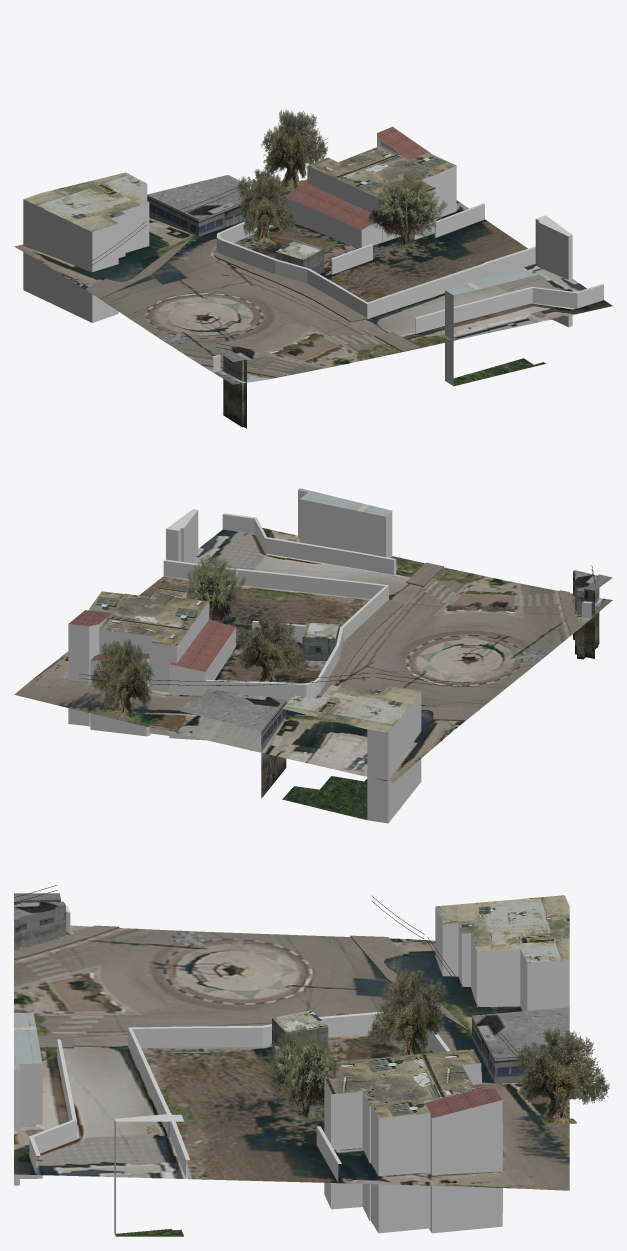
Rendered from smi67.gltf.
3 renders of one model, top to bottom at view 1: azimuth 30°, elevation 25°; view 2: azimuth 150°, elevation 25°; view 3: azimuth 270°, elevation 25°, orthographic. The views are drawn at different scales.
Visible parts, largest first — view 1: Mesh_0_Mat_none_Tex_79, _tile4_ 46, Mesh_2_Mat_0_Tex_17, Mesh_0_Mat_0_Tex_9, Mesh_8_Mat_0_Tex_29, Mesh_11_Mat_0_Tex_34, Mesh_1_Mat_0_Tex_10 1, Mesh_1_Mat_0_Tex_75 9, Mesh_3_Mat_0_Tex_18 3, Mesh_15_Mat_0_Tex_44, Mesh_7_Mat_0_Tex_25 2, Mesh_1_Mat_0_Tex_14 21 (+9 smaller); view 2: Mesh_0_Mat_none_Tex_79, _tile4_ 46, Mesh_0_Mat_0_Tex_9, Mesh_1_Mat_0_Tex_14 21, Mesh_2_Mat_0_Tex_17, Mesh_11_Mat_0_Tex_34, Mesh_4_Mat_0_Tex_21 1, Mesh_8_Mat_0_Tex_29, Mesh_1_Mat_0_Tex_75 9, Mesh_15_Mat_0_Tex_44, Mesh_3_Mat_0_Tex_18 3, Mesh_1_Mat_0_Tex_10 1 (+14 smaller); view 3: Mesh_0_Mat_none_Tex_79, Mesh_3_Mat_0_Tex_18 3, Mesh_0_Mat_0_Tex_9, Mesh_1_Mat_0_Tex_14 21, Mesh_2_Mat_0_Tex_17, _tile4_ 46, Mesh_11_Mat_0_Tex_34, Mesh_8_Mat_0_Tex_29, Mesh_1_Mat_0_Tex_10 1, Mesh_15_Mat_0_Tex_44, Mesh_1_Mat_0_Tex_75 9, Mesh_4_Mat_0_Tex_21 1 (+7 smaller).
Part boxes in pixels (x1=…): Mesh_0_Mat_none_Tex_79: x1=14, y1=180, x2=612, y2=384; _tile4_ 46: x1=213, y1=204, x2=603, y2=372; Mesh_2_Mat_0_Tex_17: x1=23, y1=183, x2=149, y2=322; Mesh_0_Mat_0_Tex_9: x1=236, y1=109, x2=327, y2=245; Mesh_8_Mat_0_Tex_29: x1=24, y1=172, x2=148, y2=231; Mesh_11_Mat_0_Tex_34: x1=307, y1=145, x2=456, y2=198; Mesh_1_Mat_0_Tex_10 1: x1=367, y1=172, x2=447, y2=248; Mesh_1_Mat_0_Tex_75 9: x1=86, y1=238, x2=419, y2=376; Mesh_3_Mat_0_Tex_18 3: x1=307, y1=166, x2=456, y2=242; Mesh_15_Mat_0_Tex_44: x1=147, y1=175, x2=271, y2=360; Mesh_7_Mat_0_Tex_25 2: x1=285, y1=126, x2=430, y2=230; Mesh_1_Mat_0_Tex_14 21: x1=285, y1=133, x2=431, y2=248; Mesh_0_Mat_none_Tex_79: x1=14, y1=528, x2=612, y2=782; _tile4_ 46: x1=163, y1=514, x2=591, y2=699; Mesh_0_Mat_0_Tex_9: x1=90, y1=613, x2=307, y2=720; Mesh_1_Mat_0_Tex_14 21: x1=68, y1=616, x2=235, y2=740; Mesh_2_Mat_0_Tex_17: x1=367, y1=691, x2=421, y2=823; Mesh_11_Mat_0_Tex_34: x1=90, y1=587, x2=208, y2=645; Mesh_4_Mat_0_Tex_21 1: x1=298, y1=490, x2=392, y2=557; Mesh_8_Mat_0_Tex_29: x1=282, y1=685, x2=420, y2=732; Mesh_1_Mat_0_Tex_75 9: x1=297, y1=562, x2=580, y2=719; Mesh_15_Mat_0_Tex_44: x1=180, y1=570, x2=597, y2=730; Mesh_3_Mat_0_Tex_18 3: x1=89, y1=592, x2=209, y2=735; Mesh_1_Mat_0_Tex_10 1: x1=186, y1=554, x2=246, y2=622; Mesh_0_Mat_none_Tex_79: x1=14, y1=925, x2=569, y2=1190; Mesh_3_Mat_0_Tex_18 3: x1=324, y1=1062, x2=481, y2=1233; Mesh_0_Mat_0_Tex_9: x1=368, y1=966, x2=609, y2=1127; Mesh_1_Mat_0_Tex_14 21: x1=429, y1=1072, x2=502, y2=1233; Mesh_2_Mat_0_Tex_17: x1=435, y1=907, x2=569, y2=1011; _tile4_ 46: x1=29, y1=911, x2=446, y2=1182; Mesh_11_Mat_0_Tex_34: x1=324, y1=1049, x2=480, y2=1118; Mesh_8_Mat_0_Tex_29: x1=435, y1=895, x2=569, y2=962; Mesh_1_Mat_0_Tex_10 1: x1=256, y1=1024, x2=341, y2=1123; Mesh_15_Mat_0_Tex_44: x1=14, y1=901, x2=569, y2=1058; Mesh_1_Mat_0_Tex_75 9: x1=14, y1=925, x2=467, y2=1047; Mesh_4_Mat_0_Tex_21 1: x1=14, y1=1063, x2=42, y2=1185.
Size of the model in its own units: 52.5 by 28.05 by 56.58.
26 materials, 19 textured.
